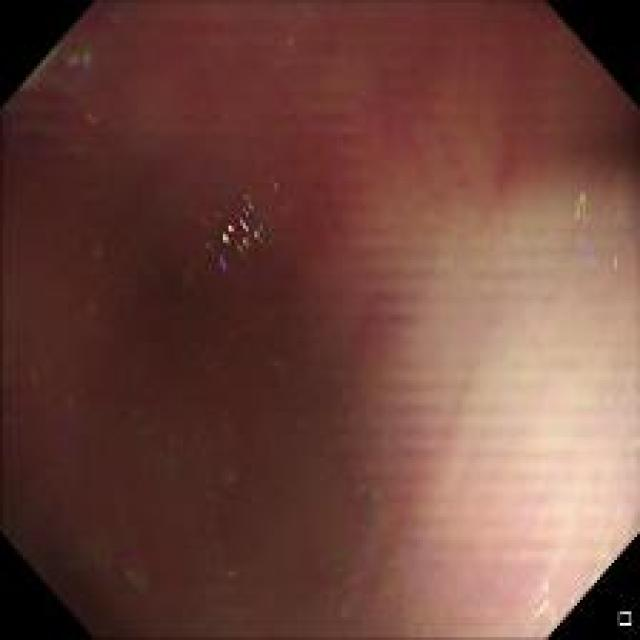color misalignment: (179, 188, 270, 295), (561, 184, 629, 284), (362, 486, 402, 579), (100, 549, 156, 612), (54, 42, 102, 92), (329, 570, 362, 605), (62, 379, 80, 410)
saturation: (450, 249, 629, 592)
